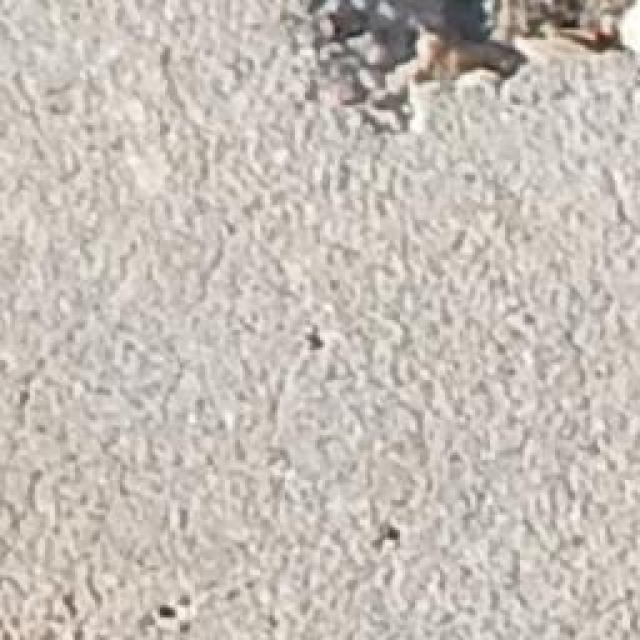concrete-crack: (289, 0, 640, 147)
